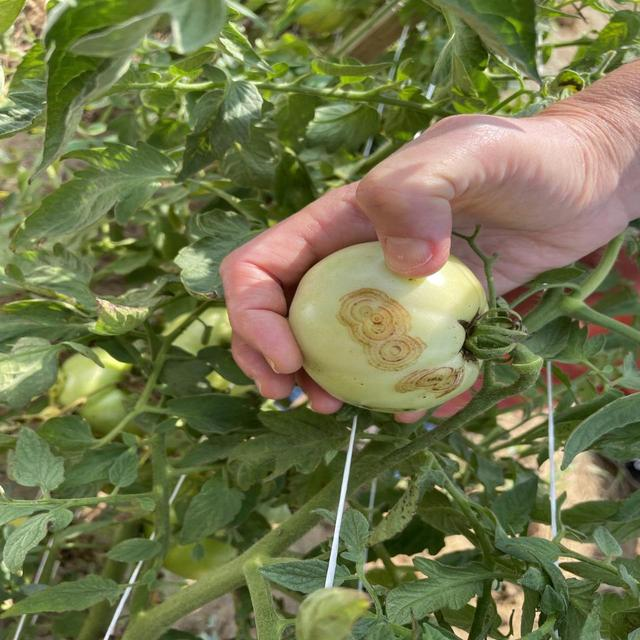Spotted wilt Virus Fruit: (189, 159, 337, 277)
